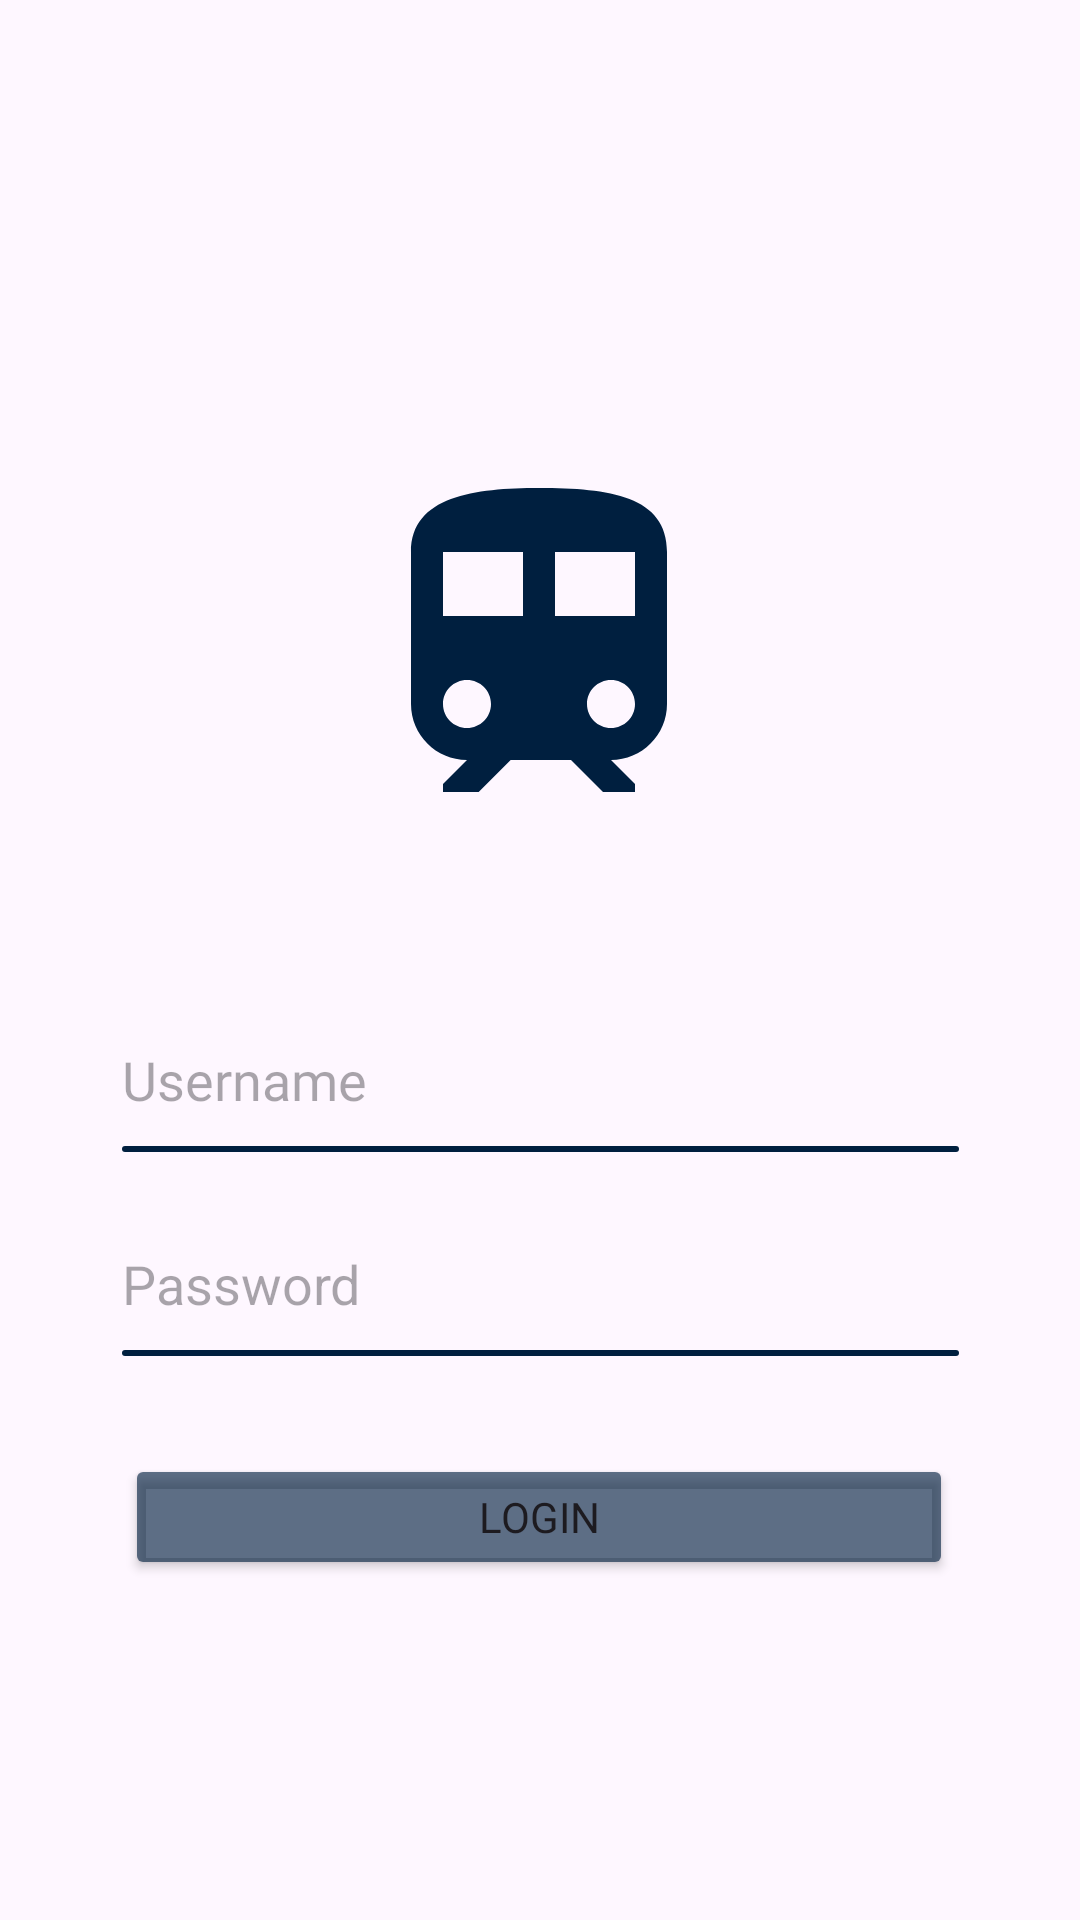

Screen size 1080 × 1920. Icon name, then its box in pixels as box(x1, y1, x2, y2):
train: box(411, 488, 667, 792)
